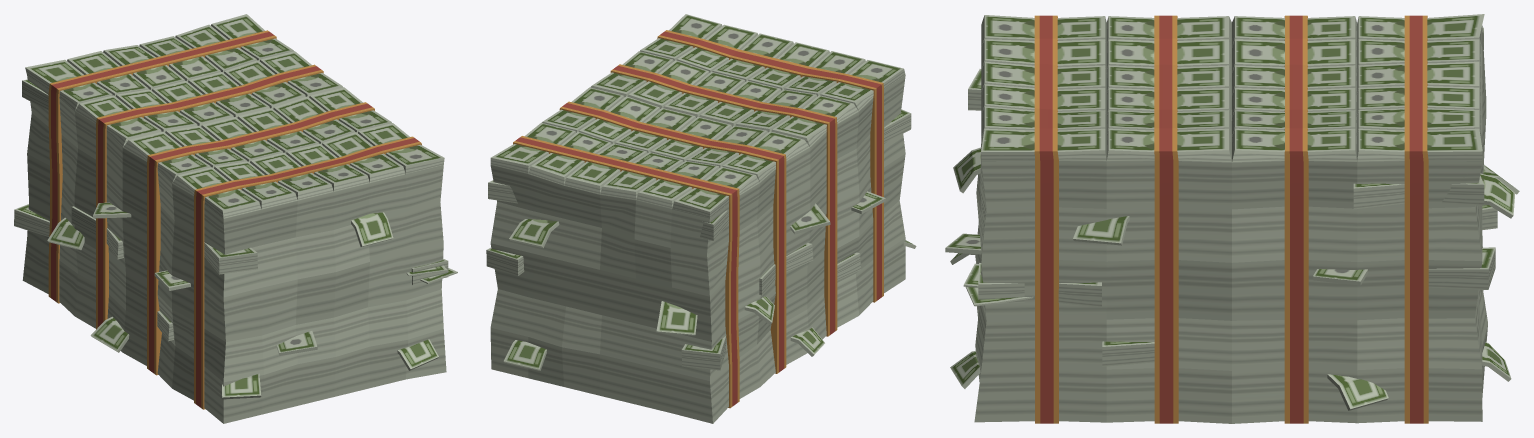
File: SM_Prop_Money_Stack_10.obj
3 views of the same model, side by side, from view 1: azimuth 30°, elevation 25°; view 2: azimuth 150°, elevation 25°; view 3: azimuth 270°, elevation 25° (orthographic). The views are drawn at different scales.
Visible parts, largest first — view 1: SM_Prop_Money_Stack_10_0; view 2: SM_Prop_Money_Stack_10_0; view 3: SM_Prop_Money_Stack_10_0.
Boxes of the visible parts, x1,y1,x2,y2 form: SM_Prop_Money_Stack_10_0: (14,14,457,423); SM_Prop_Money_Stack_10_0: (486,14,916,423); SM_Prop_Money_Stack_10_0: (945,14,1519,423).
Bounding box in the file's own units: 0.8996 × 0.6752 × 1.29.
Materials: 1 (1 with a texture image).
